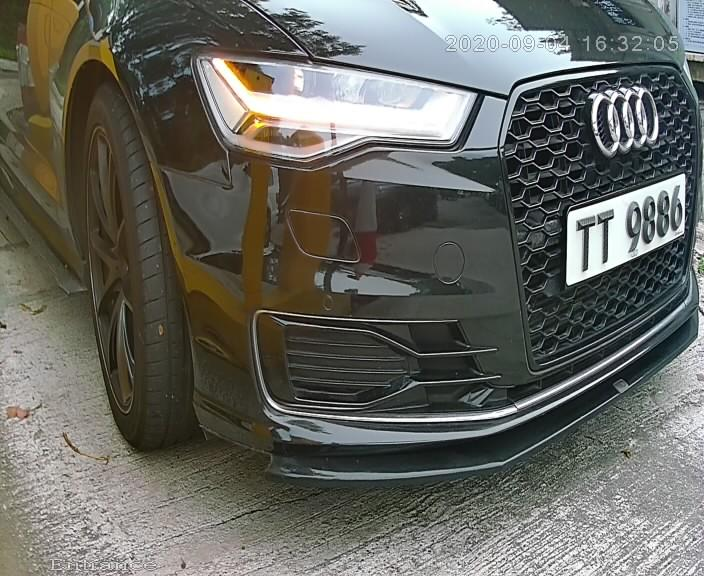Car: (98, 1, 704, 505)
License Plate: (560, 163, 689, 291)
